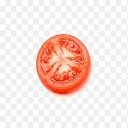tomato: (37, 34, 91, 93)
